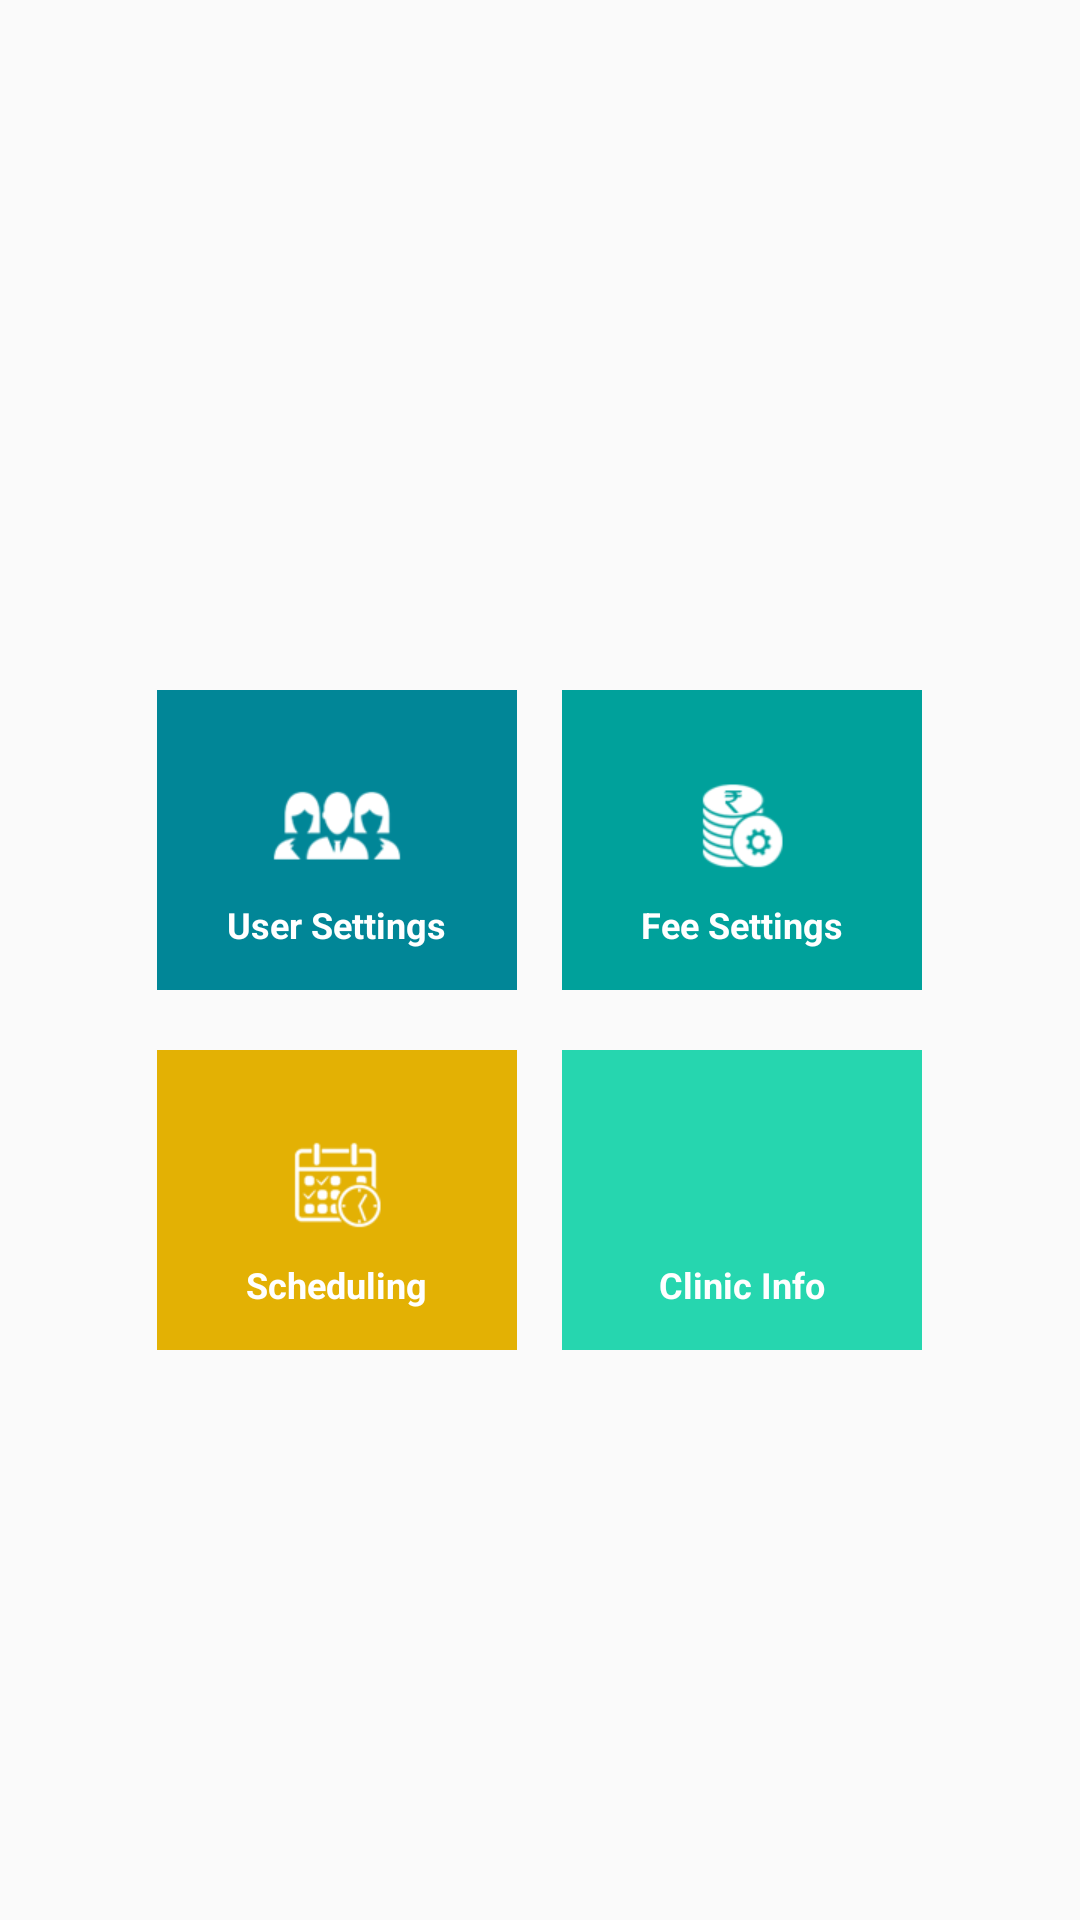

Point at icon controls on the screen. Image size 1080 × 1920, points as point (x, y).
appointment: point (337, 1185)
